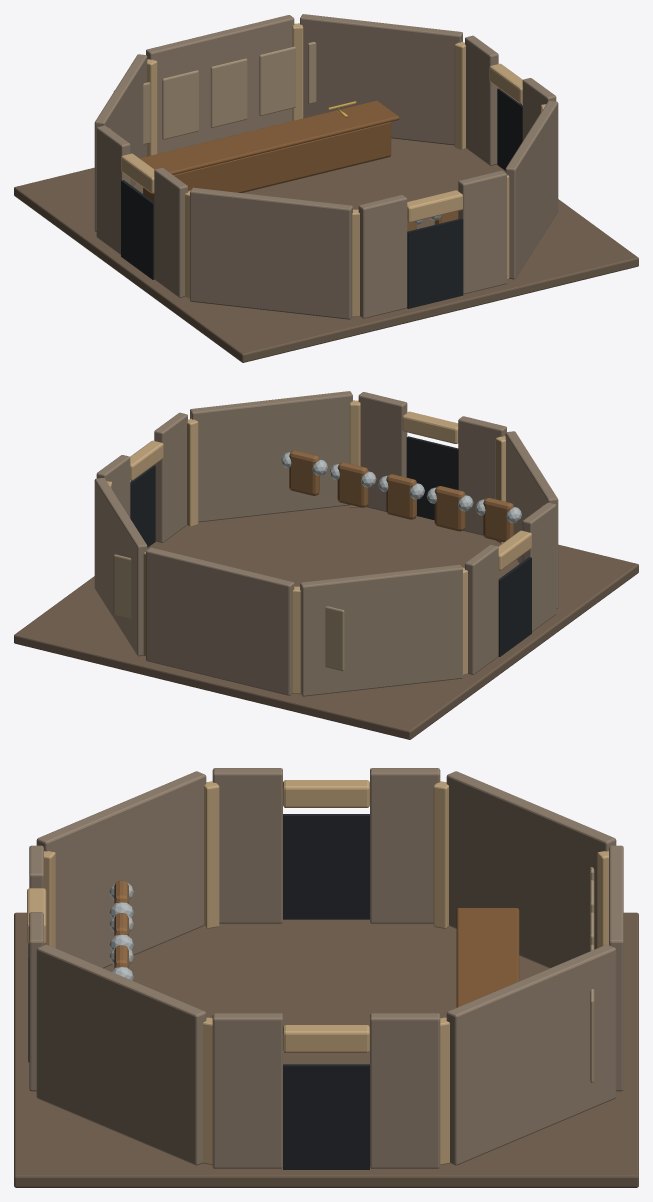
Rendered from armor_shop_4166.glb.
The picture shows the model from 3 angles, top to bottom: view 1: azimuth 30°, elevation 25°; view 2: azimuth 150°, elevation 25°; view 3: azimuth 270°, elevation 25°; orthographic projection. The views are drawn at different scales.
Visible parts, largest first — view 1: Room floor, SW solid wall, NE solid wall, N solid wall, Long fitting counter, SE solid wall, Counter top, S doorway right, S doorway left, S passage shadow, W doorway left, E doorway left (+18 smaller); view 2: Room floor, NW solid wall, N solid wall, SE solid wall, NE solid wall, S doorway left, W doorway right, E doorway right, S doorway right, W doorway left, SW solid wall, S passage shadow (+18 smaller); view 3: Room floor, SE solid wall, NE solid wall, SW solid wall, NW solid wall, E doorway left, E doorway right, W doorway left, W doorway right, E passage shadow, W passage shadow, Counter top (+12 smaller).
Part boxes in pixels (x1=…): Room floor: x1=14, y1=138, x2=638, y2=362; SW solid wall: x1=190, y1=187, x2=352, y2=319; NE solid wall: x1=300, y1=14, x2=462, y2=145; N solid wall: x1=146, y1=15, x2=294, y2=153; Long fitting counter: x1=143, y1=122, x2=391, y2=201; SE solid wall: x1=505, y1=101, x2=558, y2=279; Counter top: x1=139, y1=100, x2=399, y2=174; S doorway right: x1=358, y1=195, x2=407, y2=318; S doorway left: x1=458, y1=170, x2=506, y2=294; S passage shadow: x1=407, y1=218, x2=463, y2=308; W doorway left: x1=154, y1=167, x2=187, y2=297; E doorway left: x1=465, y1=35, x2=498, y2=165; Room floor: x1=14, y1=505, x2=638, y2=739; NW solid wall: x1=300, y1=564, x2=462, y2=696; N solid wall: x1=146, y1=547, x2=294, y2=695; SE solid wall: x1=190, y1=391, x2=352, y2=522; NE solid wall: x1=94, y1=478, x2=147, y2=656; S doorway left: x1=358, y1=392, x2=407, y2=511; W doorway right: x1=465, y1=544, x2=498, y2=674; E doorway right: x1=154, y1=412, x2=187, y2=542; S doorway right: x1=458, y1=416, x2=506, y2=535; W doorway left: x1=522, y1=502, x2=556, y2=631; SW solid wall: x1=505, y1=431, x2=558, y2=608; S passage shadow: x1=406, y1=436, x2=458, y2=520; Room floor: x1=14, y1=912, x2=638, y2=1187; SE solid wall: x1=36, y1=944, x2=206, y2=1165; NE solid wall: x1=446, y1=944, x2=616, y2=1165; SW solid wall: x1=36, y1=771, x2=206, y2=968; NW solid wall: x1=446, y1=771, x2=616, y2=968; E doorway left: x1=370, y1=1013, x2=440, y2=1168; E doorway right: x1=212, y1=1013, x2=282, y2=1168; W doorway left: x1=212, y1=768, x2=282, y2=923; W doorway right: x1=370, y1=768, x2=440, y2=923; E passage shadow: x1=283, y1=1064, x2=369, y2=1169; W passage shadow: x1=283, y1=814, x2=369, y2=919; Counter top: x1=456, y1=908, x2=519, y2=1007.
Bounding box in the file's own units: 18 × 5.2 × 18.
